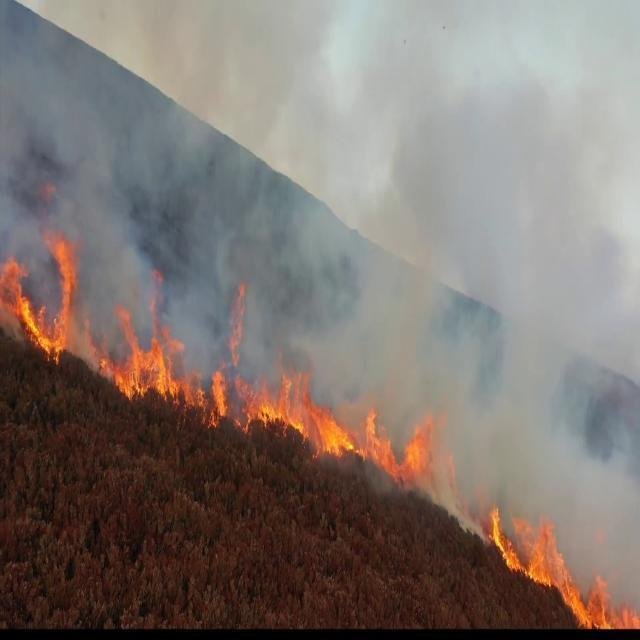Fire: (231, 286, 354, 466), (0, 229, 80, 364), (112, 270, 187, 407), (578, 577, 613, 637)
Smoke: (407, 74, 632, 413), (137, 0, 342, 273), (350, 93, 453, 385)
